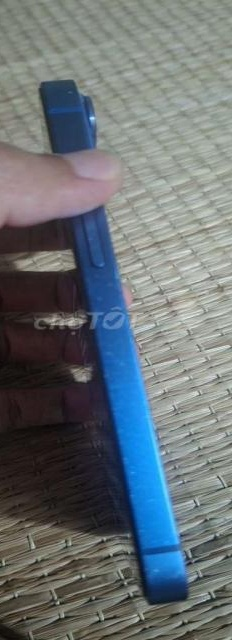scratch: (74, 279, 174, 561)
